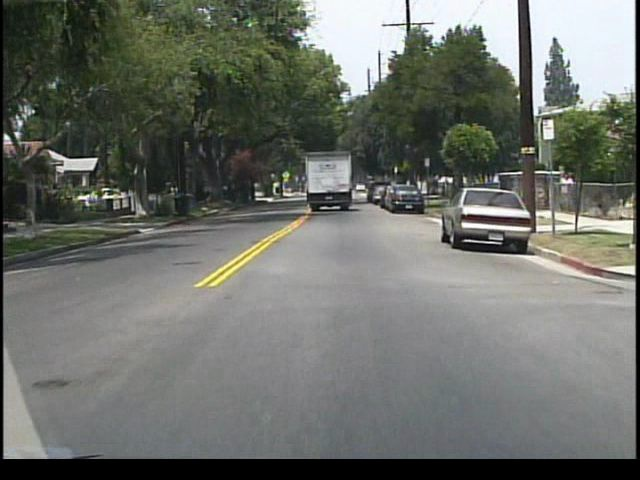person: (558, 172, 574, 214)
